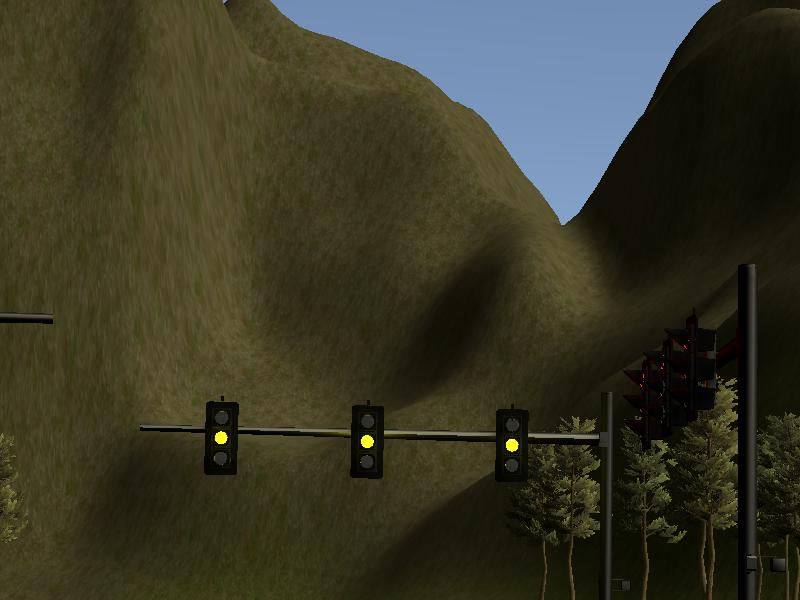yellow: (205, 400, 237, 474), (351, 404, 383, 478), (494, 406, 526, 480)
